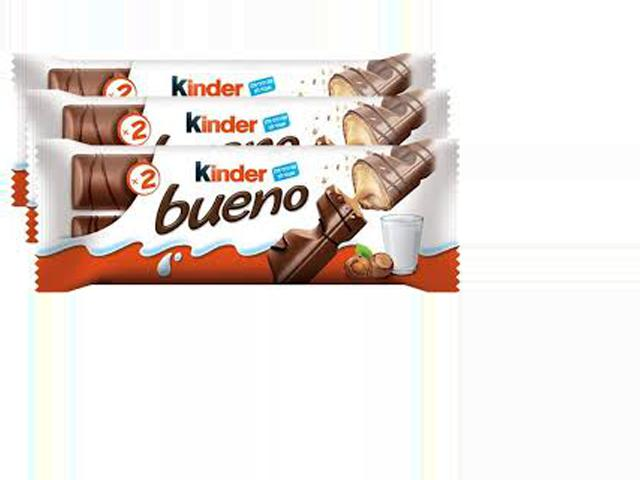chocolate: (13, 52, 448, 295)
